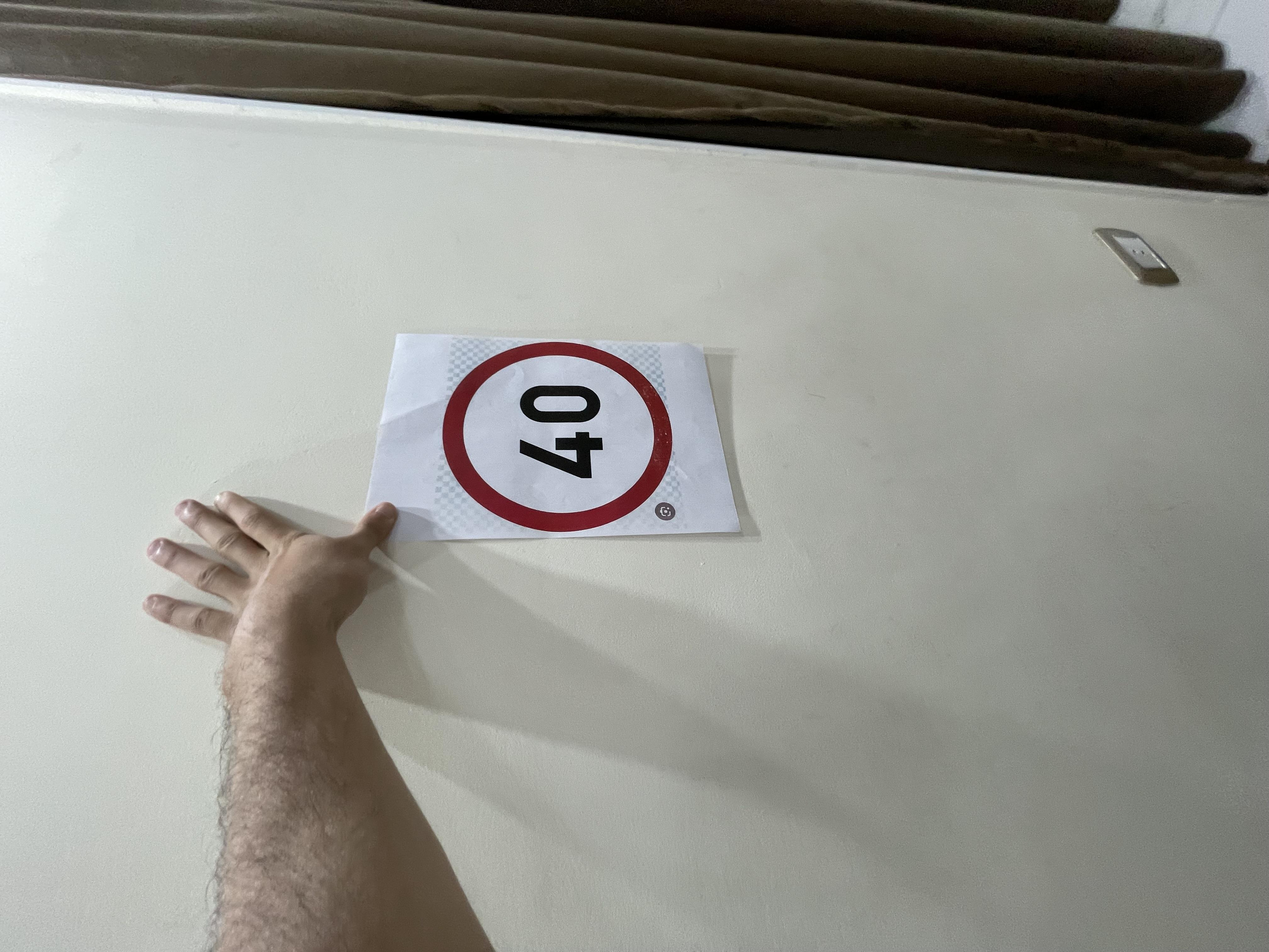40-Speed: (563, 331, 813, 507)
